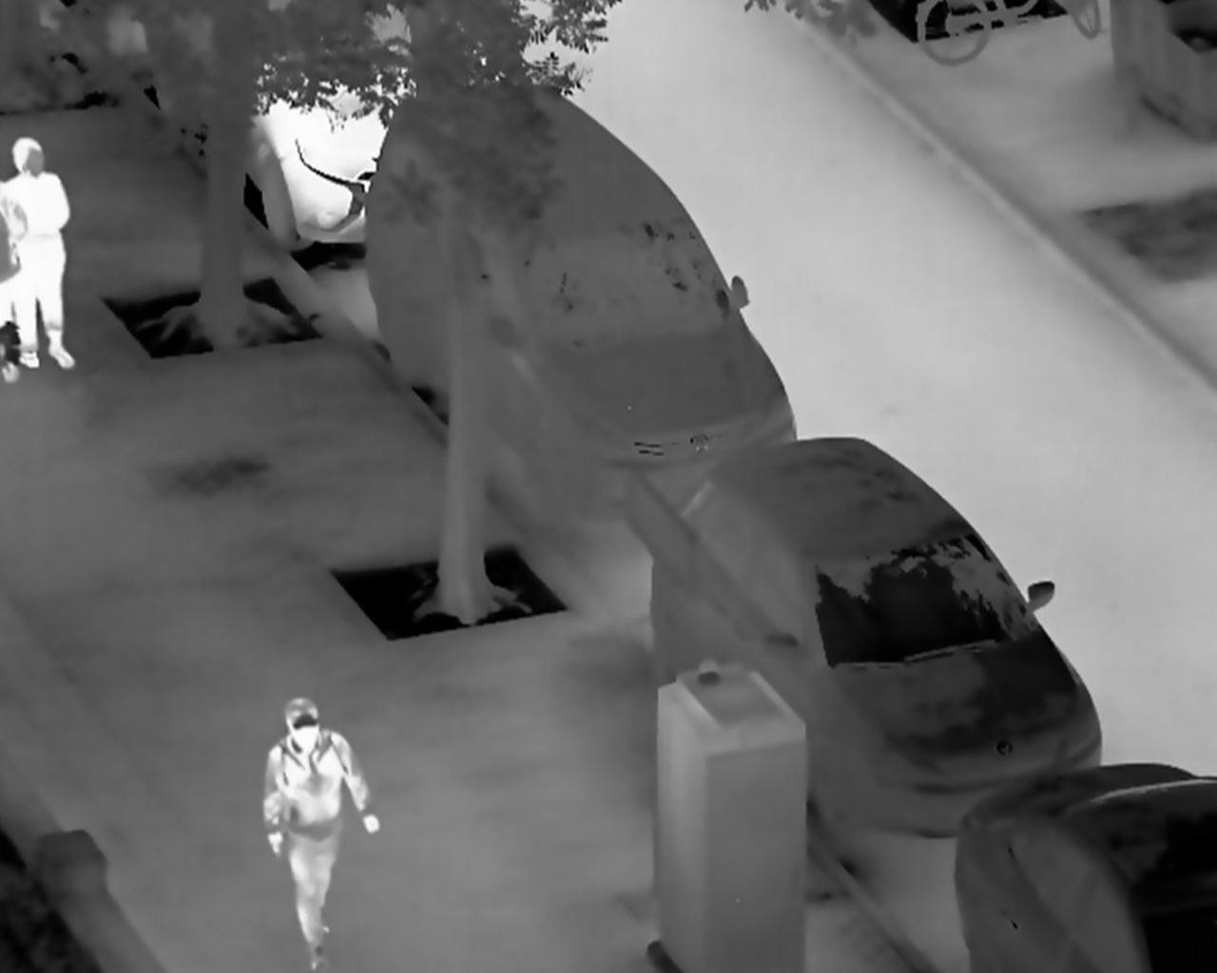person: (261, 696, 381, 969)
